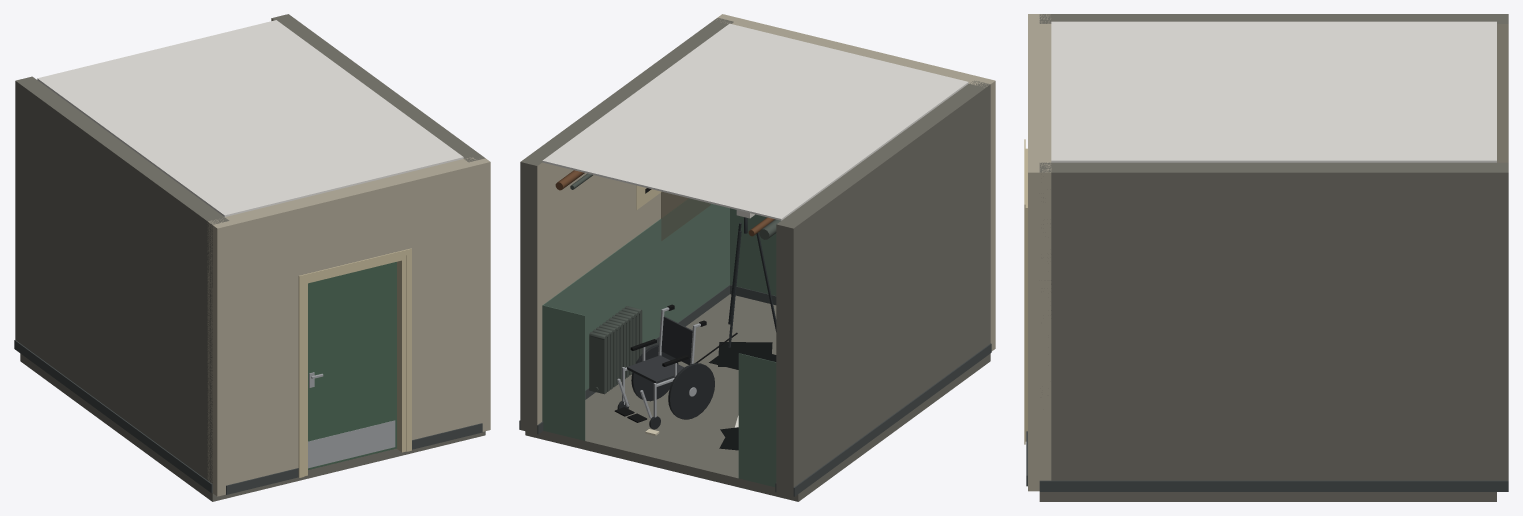
The model's file is ENV_W0_Threshold.glb.
3 renders of one model, left to right at view 1: azimuth 30°, elevation 25°; view 2: azimuth 150°, elevation 25°; view 3: azimuth 270°, elevation 25°, orthographic. The views are drawn at different scales.
Parts seen in each view (by area): view 1: ENV_W0_Threshold_Architecture, ENV_W0_Threshold_Ceiling, DOOR_Service_Historic_1200_Leaf, ENV_W0_Threshold_Posts, DOOR_Service_Historic_1200_Frame; view 2: ENV_W0_Threshold_Architecture, ENV_W0_Threshold_Ceiling, ENV_W0_Threshold_Dado, PROP_Wheelchair_Mesh, PROP_Radiator_Cast_Iron_Mesh, ENV_W0_Threshold_Posts, ENV_W0_Threshold_Water, ENV_W0_Threshold_Decay, PROP_Sensor_Tripod_Modern_Mesh, ENV_W0_Threshold_Pipes; view 3: ENV_W0_Threshold_Architecture, ENV_W0_Threshold_Ceiling, ENV_W0_Threshold_Posts, DOOR_Service_Historic_1200_Frame.
Boxes of the visible parts, <box> form: ENV_W0_Threshold_Architecture: <box>14,14,485,501</box>; ENV_W0_Threshold_Ceiling: <box>37,20,463,216</box>; DOOR_Service_Historic_1200_Leaf: <box>308,262,396,469</box>; ENV_W0_Threshold_Posts: <box>207,158,490,496</box>; DOOR_Service_Historic_1200_Frame: <box>298,248,411,477</box>; ENV_W0_Threshold_Architecture: <box>519,16,991,501</box>; ENV_W0_Threshold_Ceiling: <box>542,23,968,220</box>; ENV_W0_Threshold_Dado: <box>542,198,776,487</box>; PROP_Wheelchair_Mesh: <box>614,304,714,429</box>; PROP_Radiator_Cast_Iron_Mesh: <box>589,306,642,394</box>; ENV_W0_Threshold_Posts: <box>716,14,995,351</box>; ENV_W0_Threshold_Water: <box>709,342,776,450</box>; ENV_W0_Threshold_Decay: <box>661,191,710,240</box>; PROP_Sensor_Tripod_Modern_Mesh: <box>695,210,776,363</box>; ENV_W0_Threshold_Pipes: <box>555,170,780,239</box>; ENV_W0_Threshold_Architecture: <box>1026,14,1508,501</box>; ENV_W0_Threshold_Ceiling: <box>1051,21,1496,162</box>; ENV_W0_Threshold_Posts: <box>1028,14,1051,491</box>; DOOR_Service_Historic_1200_Frame: <box>1024,139,1027,444</box>.
Size of what is drawn, in the model's own units: 3.22 by 3.12 by 4.13.
